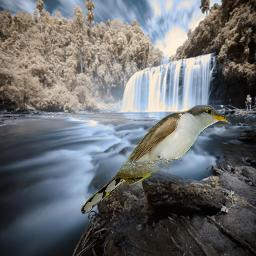Cuckoo: (78, 103, 233, 215)
